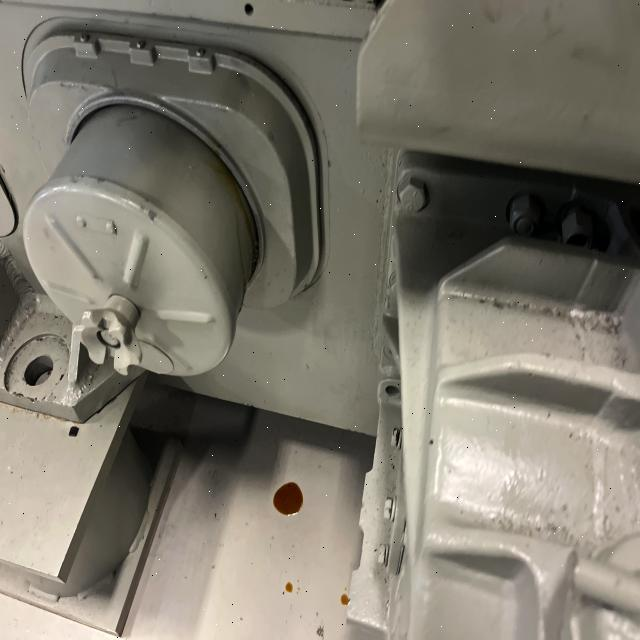Oil Leak: (142, 118, 311, 338), (267, 478, 311, 521)
